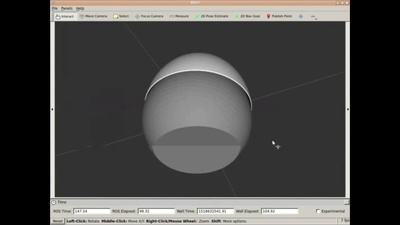mira_robot: (143, 53, 253, 174)
